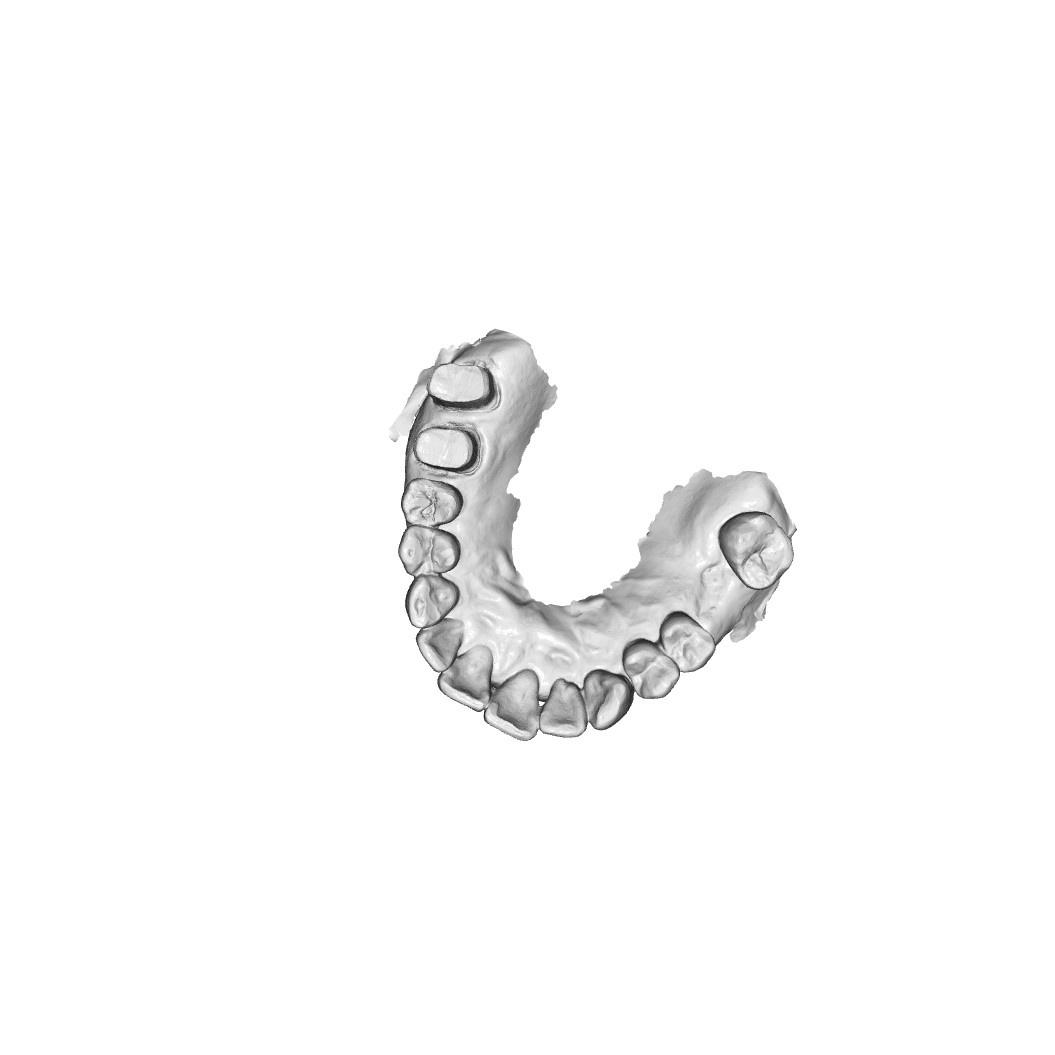canine: (400, 575, 466, 629), (582, 668, 633, 731)
crown: (424, 360, 504, 412), (413, 422, 478, 475)
incisor: (483, 670, 543, 742), (435, 647, 495, 711), (539, 682, 587, 739), (414, 618, 463, 672)
molar: (718, 505, 796, 594)
premolar: (655, 611, 716, 674), (621, 637, 677, 702), (399, 479, 466, 528), (401, 530, 459, 581)
